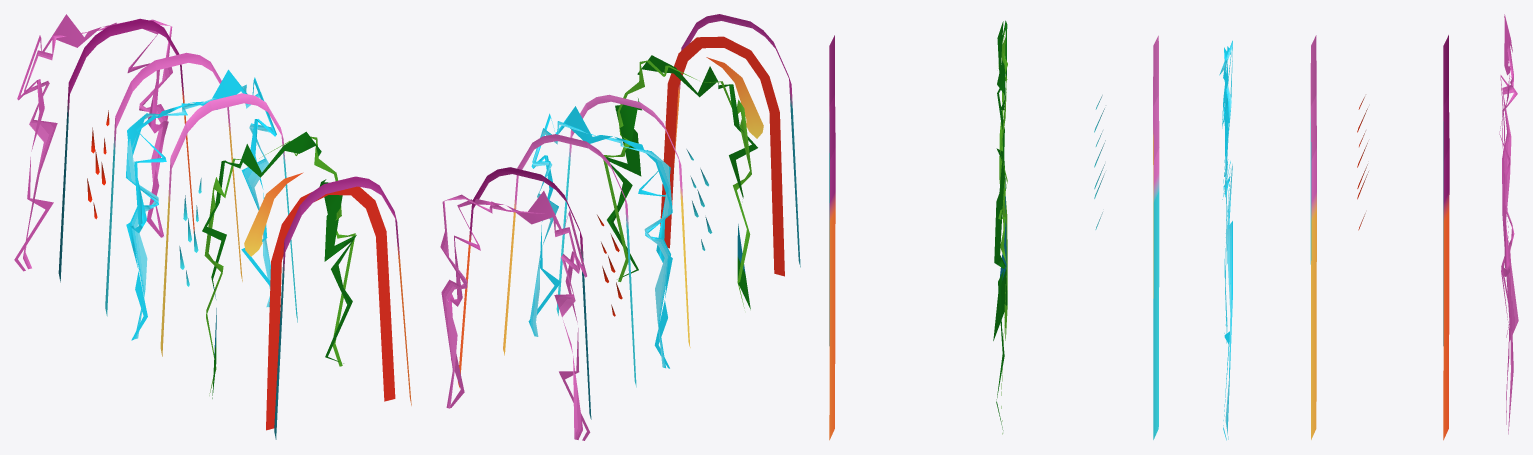
The model's file is tunel-005.gltf.
The picture shows the model from 3 angles, left to right: view 1: azimuth 30°, elevation 25°; view 2: azimuth 150°, elevation 25°; view 3: azimuth 270°, elevation 25°; orthographic projection. The views are drawn at different scales.
Parts seen in each view (by area): view 1: Tunel-Electrico-f.005; view 2: Tunel-Electrico-f.005; view 3: Tunel-Electrico-f.005.
Part boxes in pixels (<box>): Tunel-Electrico-f.005: <box>14,14,411,439</box>; Tunel-Electrico-f.005: <box>440,14,800,440</box>; Tunel-Electrico-f.005: <box>829,14,1518,440</box>.
Bounding box in the file's own units: 3.45 × 4.94 × 8.74.
Materials: 1 (1 with a texture image).
